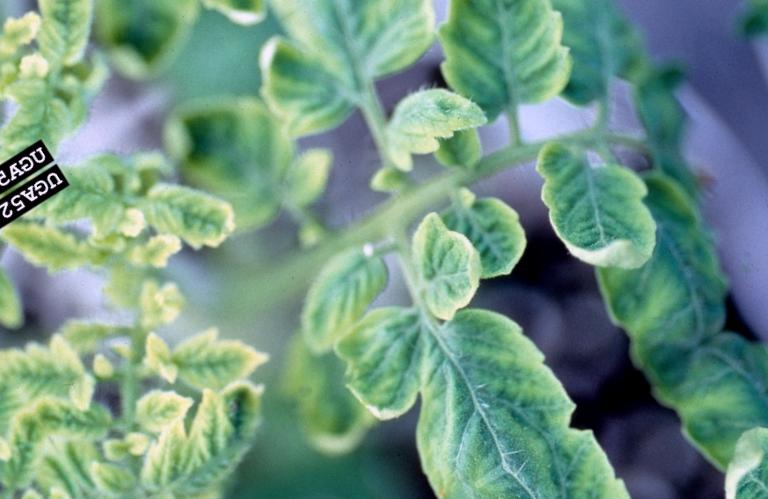Tomato leaf yellow virus: (344, 287, 586, 499), (237, 0, 464, 152), (509, 111, 678, 294), (386, 0, 603, 142), (309, 283, 477, 453), (250, 228, 417, 372), (111, 143, 254, 290), (419, 153, 553, 295), (374, 199, 503, 332), (363, 65, 499, 191), (148, 302, 276, 421)
